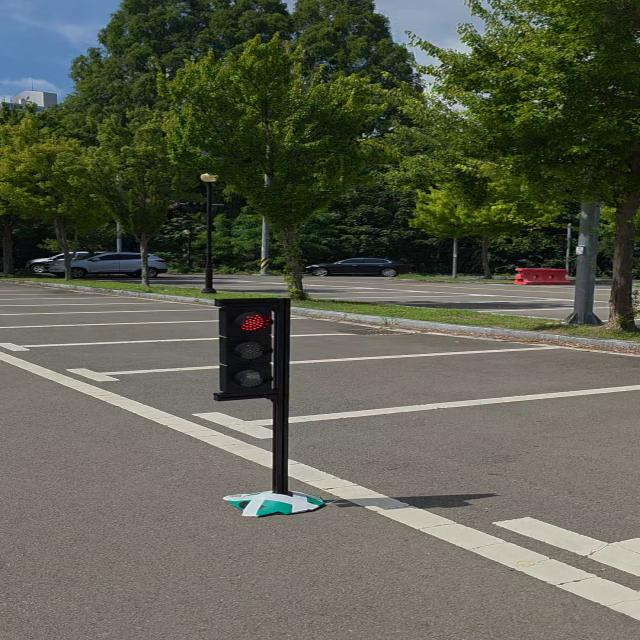red: (209, 292, 284, 404)
